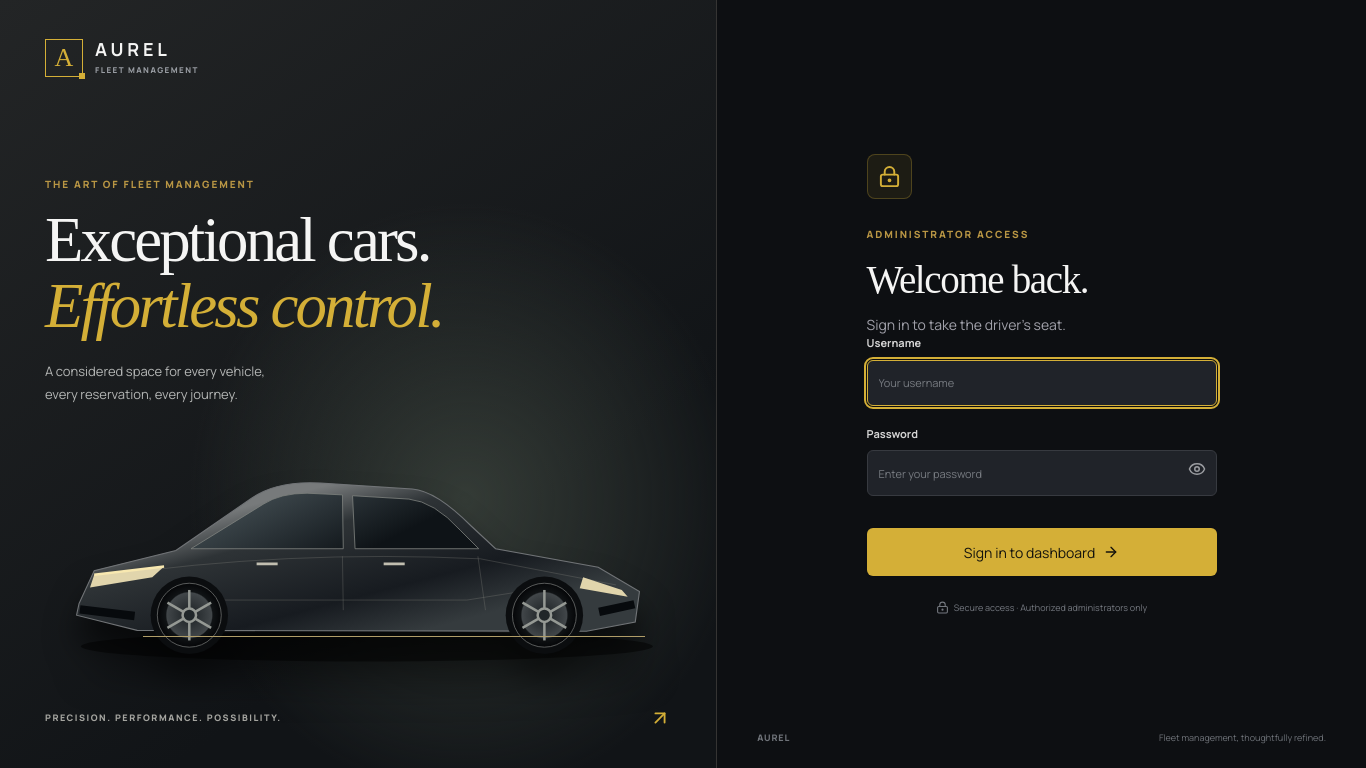
Scenario: admin authentication UI › shows failed credentials without creating a session
In the field with placeholder "Your username": (1042, 382) [867,360,1217,406], type "admin"
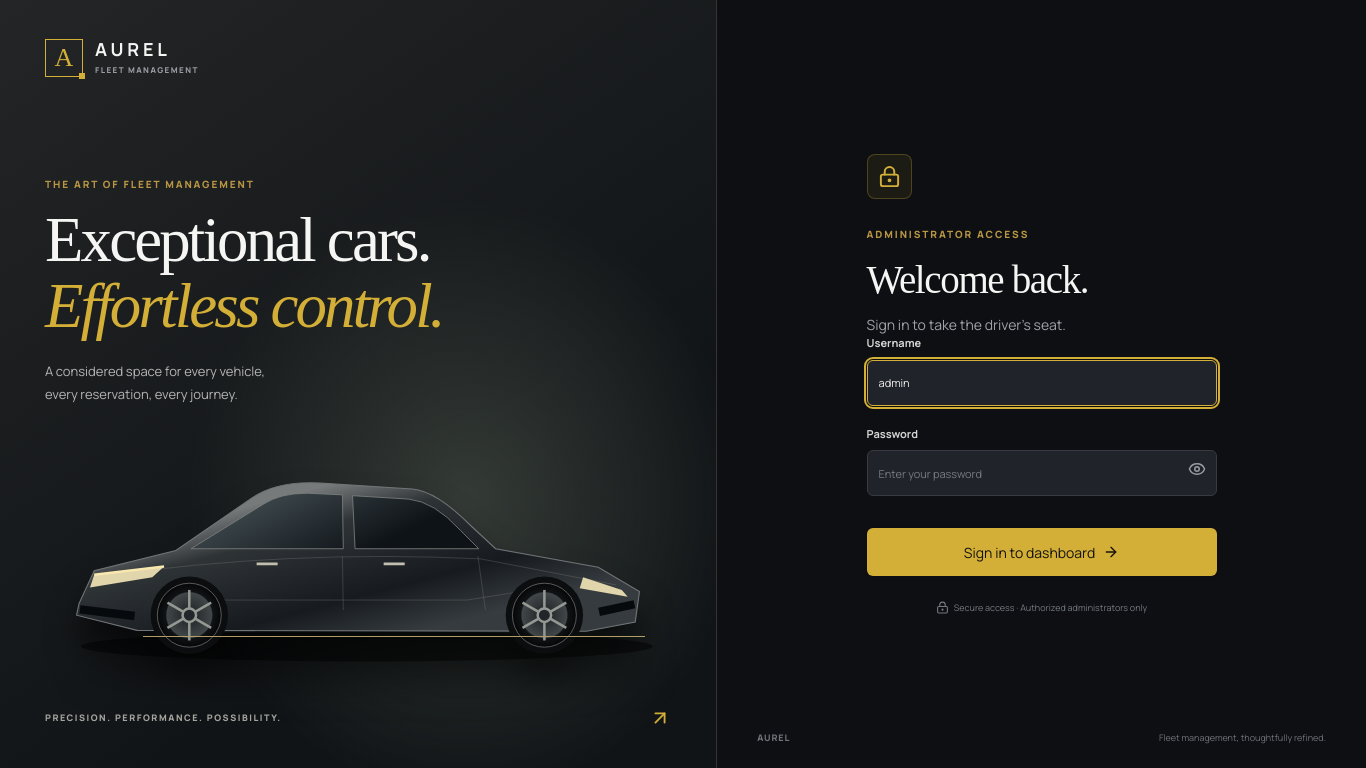
In the password field with placeholder "Enter your password": (1042, 473) [867,450,1217,496], type "wrong"
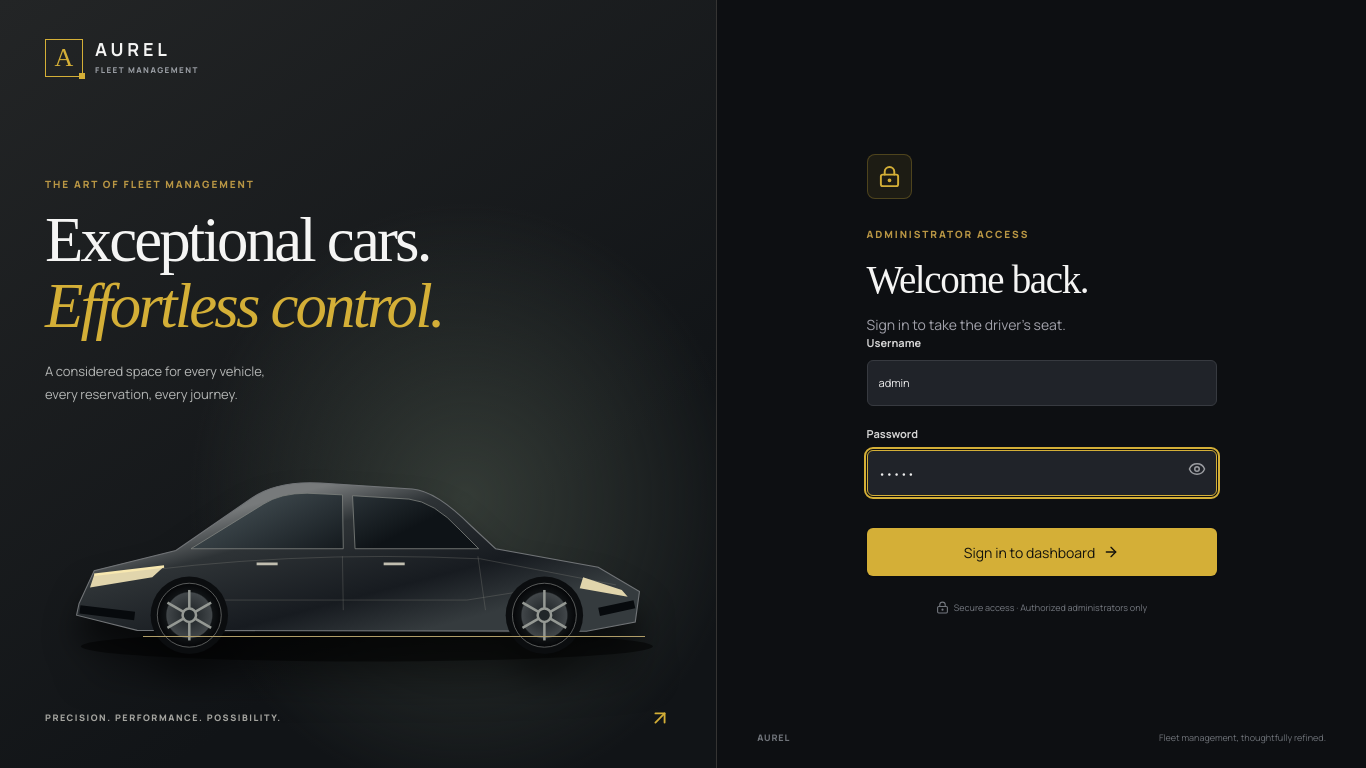
Click the button "Sign in to dashboard": (1042, 552) [867,528,1217,576]
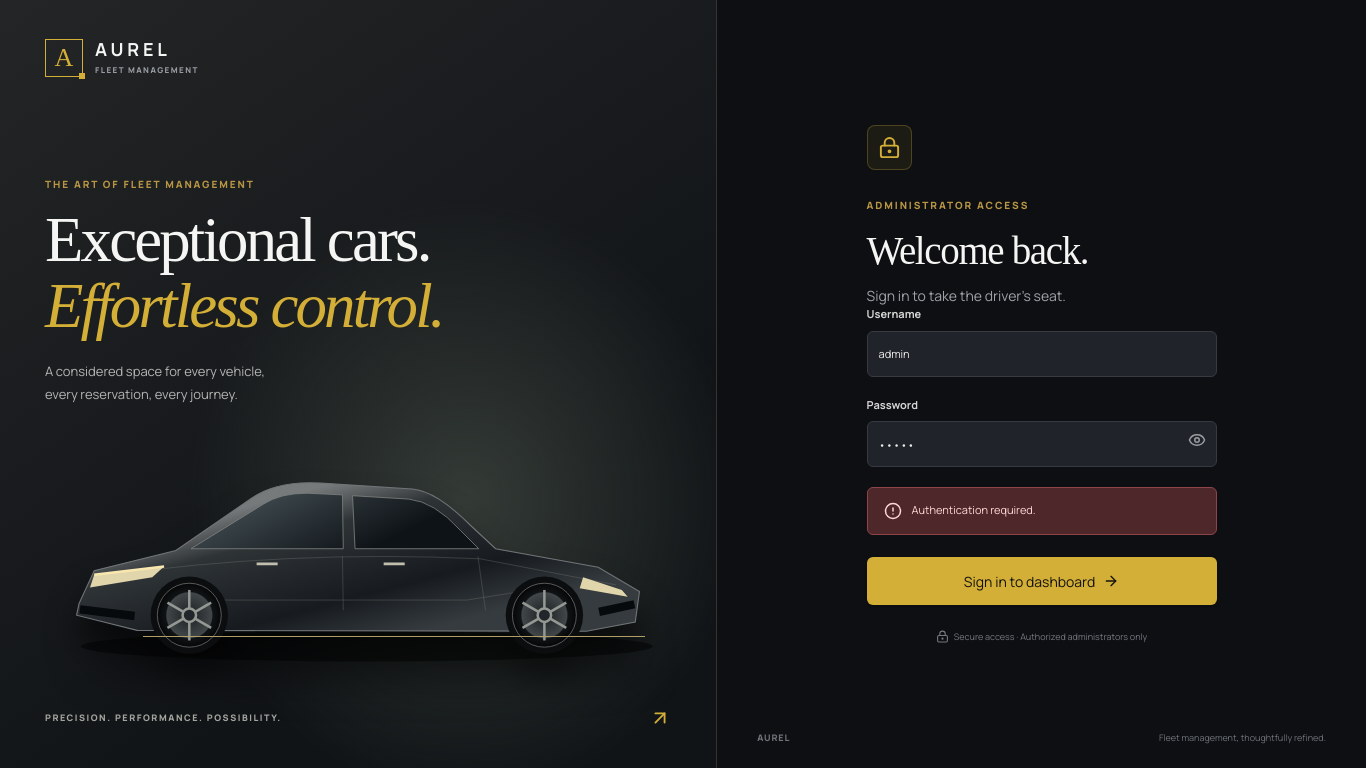
expect the message reads "Authentication required.": met, box [912,502,1036,517]
